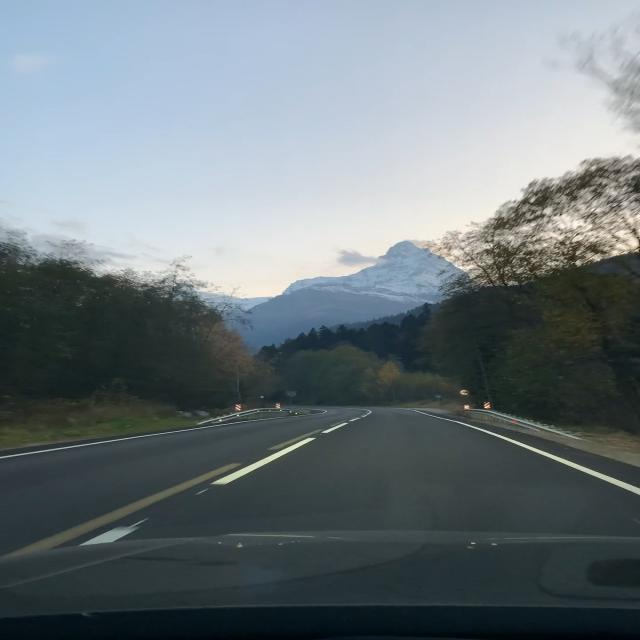asphalt: (0, 408, 639, 554)
